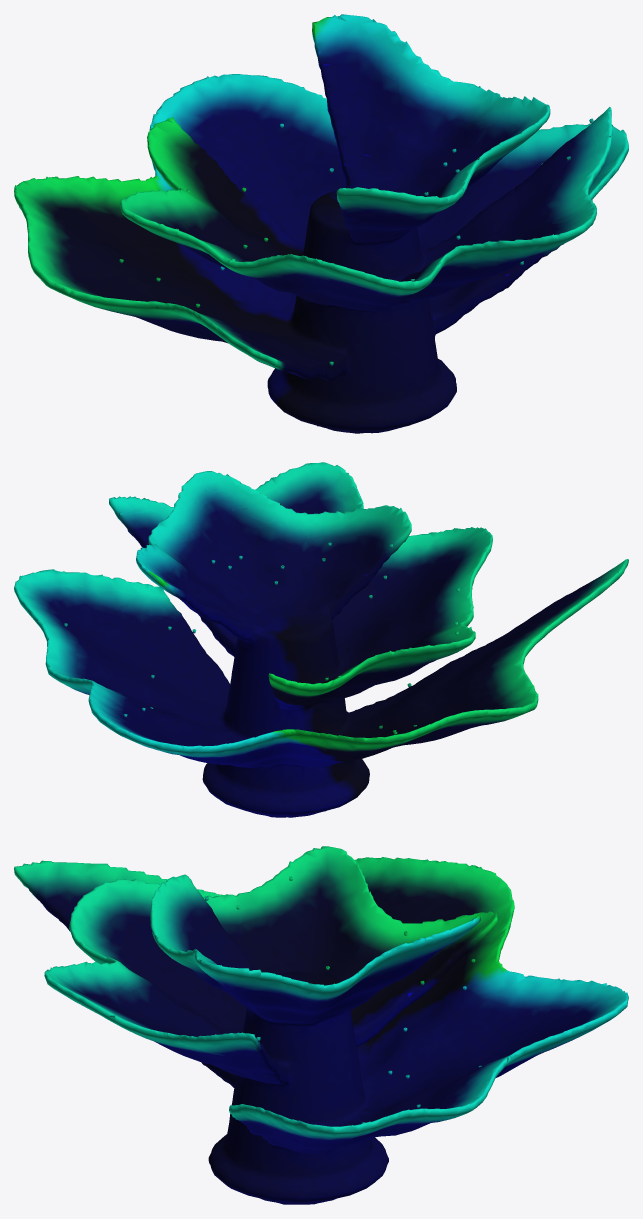
File: reef-montipora-whorled-plate.glb
The picture shows the model from 3 angles, top to bottom: view 1: azimuth 30°, elevation 25°; view 2: azimuth 150°, elevation 25°; view 3: azimuth 270°, elevation 25°; orthographic projection. The views are drawn at different scales.
Parts seen in each view (by area): view 1: Reef_Montipora_Whorled_Plate; view 2: Reef_Montipora_Whorled_Plate; view 3: Reef_Montipora_Whorled_Plate.
Part boxes in pixels (x1,y1,x2,y2): Reef_Montipora_Whorled_Plate: (14,14,628,433); Reef_Montipora_Whorled_Plate: (14,462,628,817); Reef_Montipora_Whorled_Plate: (14,846,628,1204).
Bounding box in the file's own units: 0.195 × 0.0988 × 0.1885.
1 material, 1 textured.
